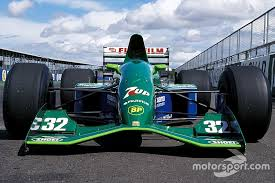FormulaOneCar: (3, 26, 273, 157)
